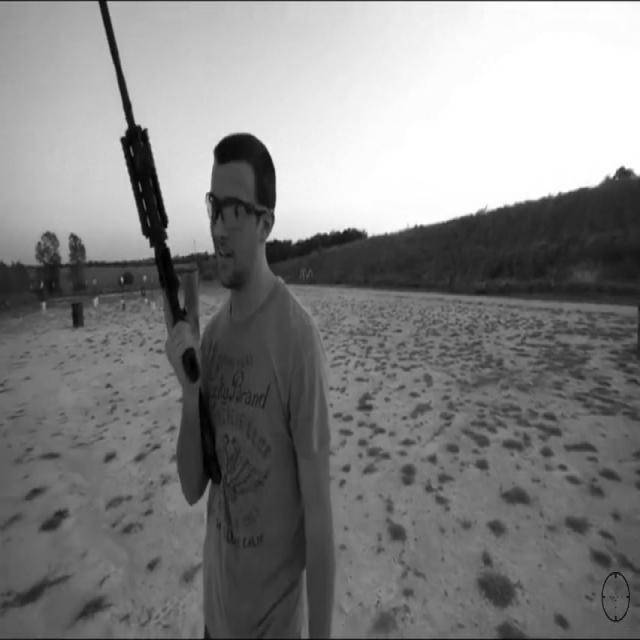Sniper: (57, 0, 328, 535)
